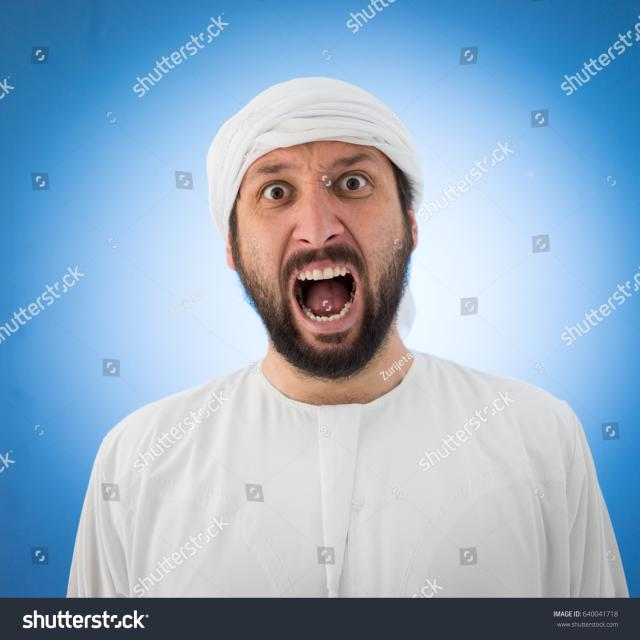angry: (204, 84, 424, 390)
